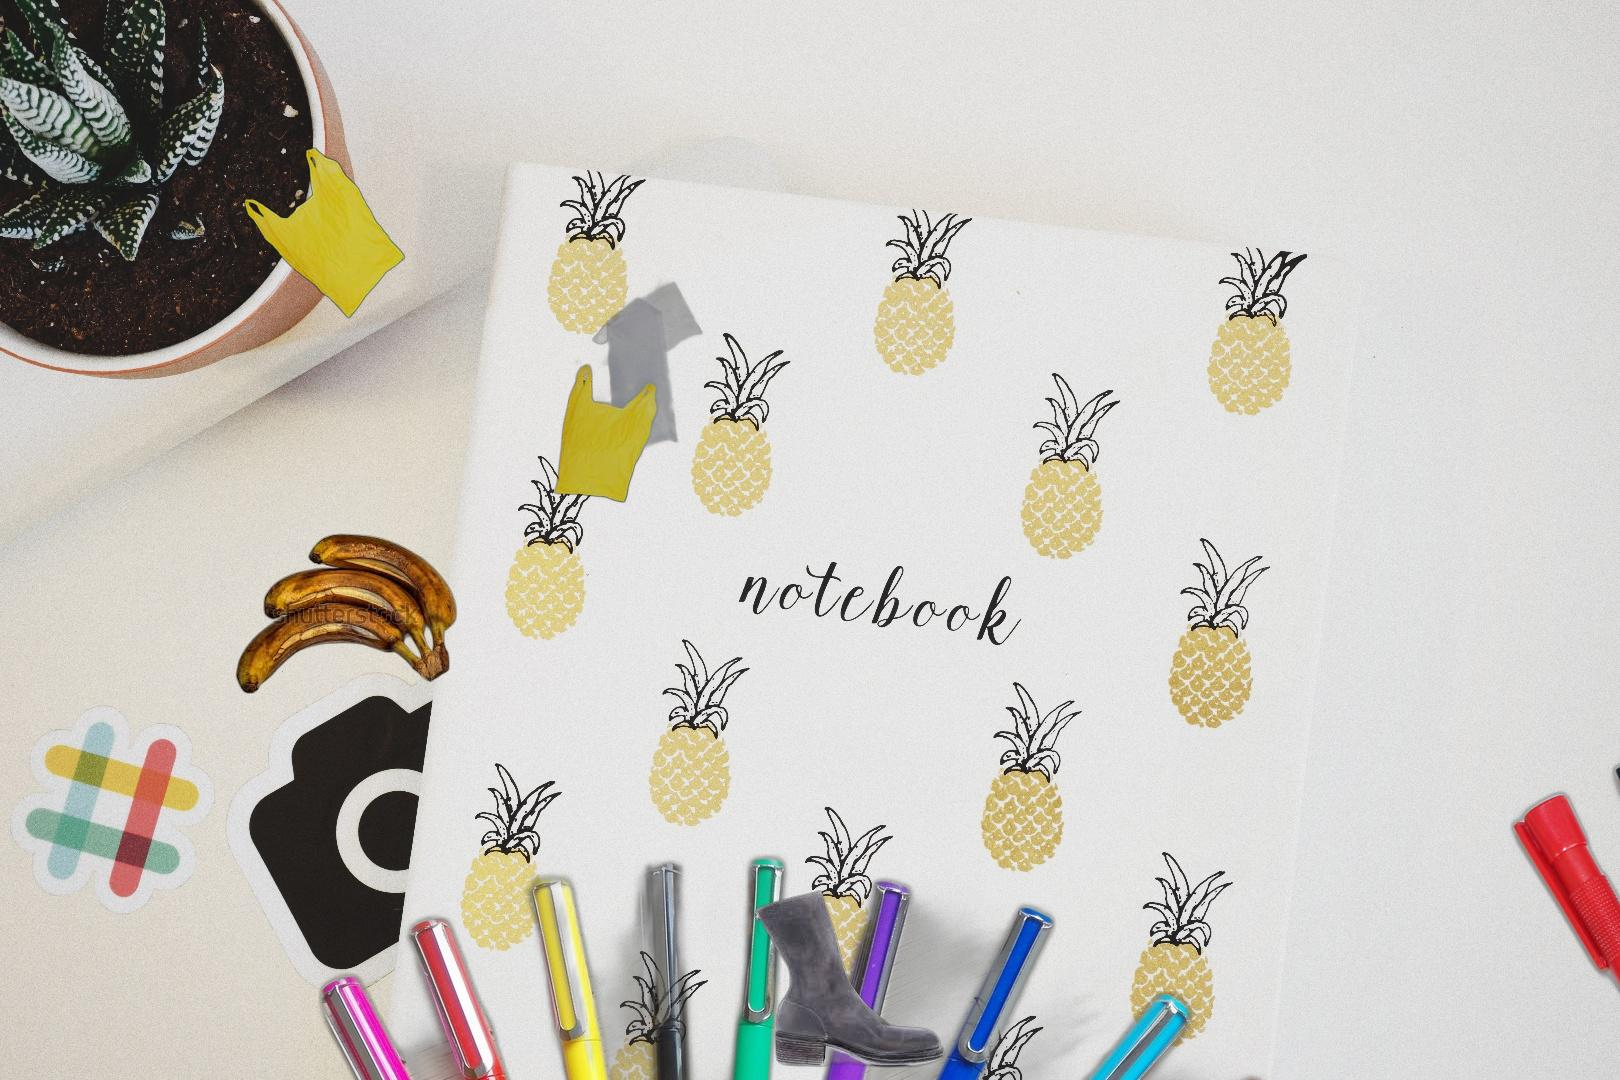biological: (233, 532, 460, 695)
penholder: (313, 673, 1289, 1080), (1505, 687, 1620, 1080)
plastic-bag: (551, 271, 708, 505), (241, 147, 407, 321)
shoes: (752, 888, 946, 1070)
